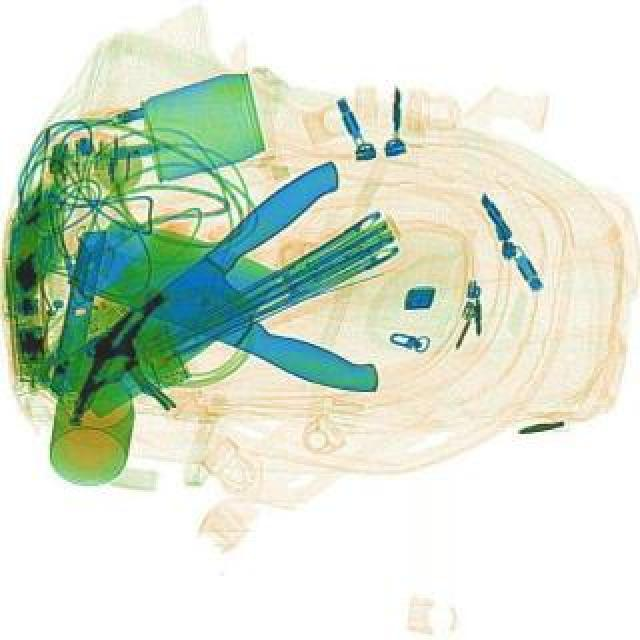knife: (42, 152, 380, 424), (68, 204, 404, 404)
